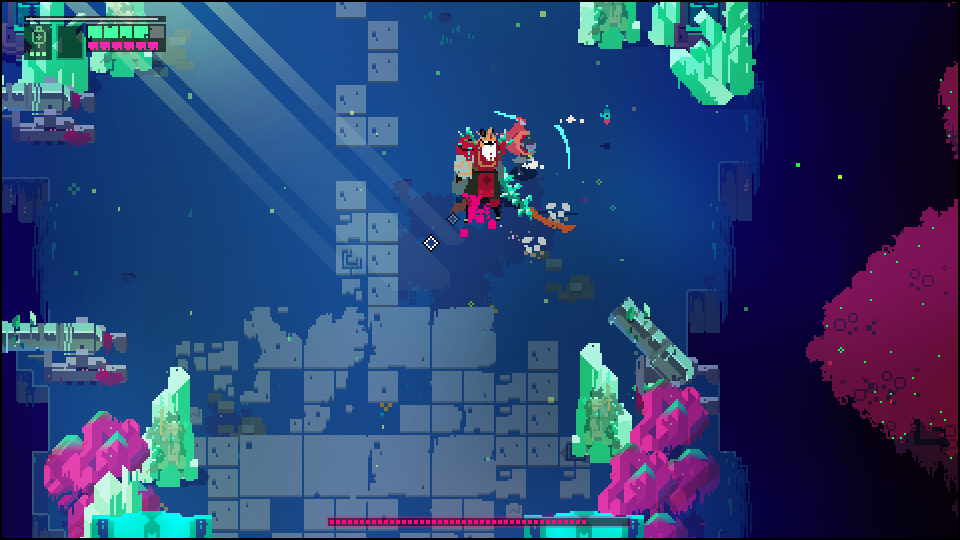hanged_man: (450, 124, 545, 244)
player: (494, 108, 547, 178)
